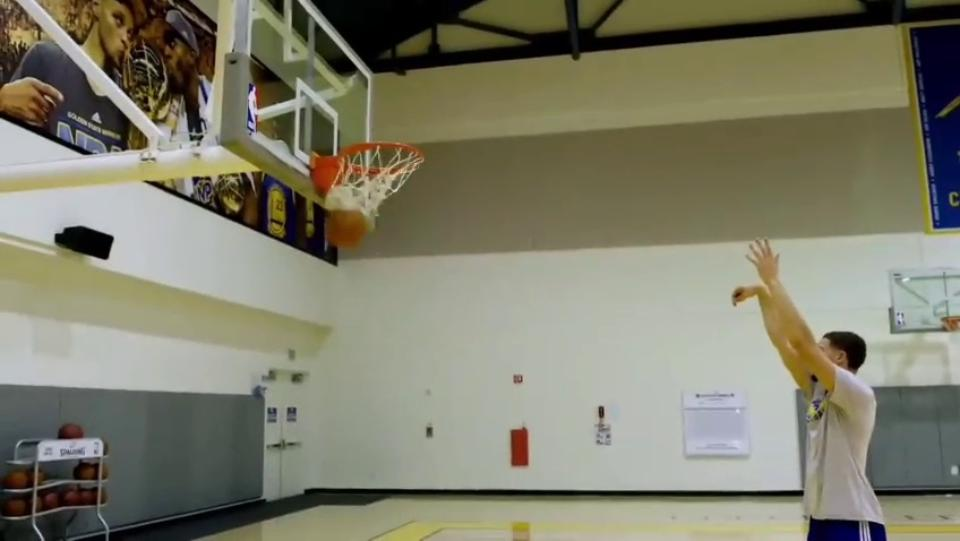hoop: (315, 139, 426, 185), (942, 315, 960, 325)
